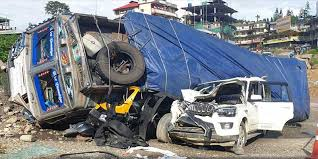accident: (6, 7, 315, 157)
